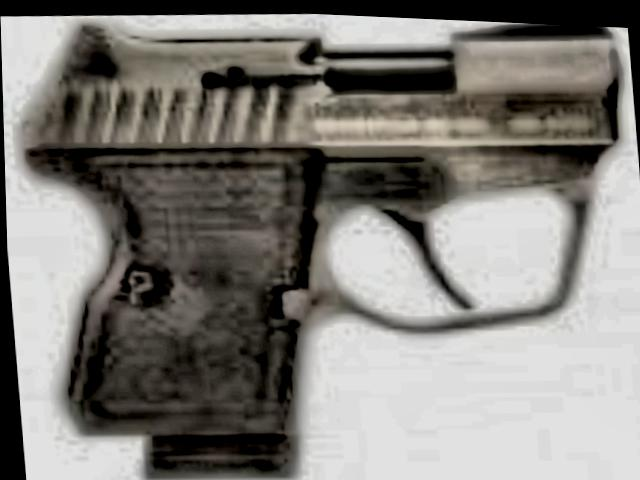pistol: (16, 1, 634, 480)
